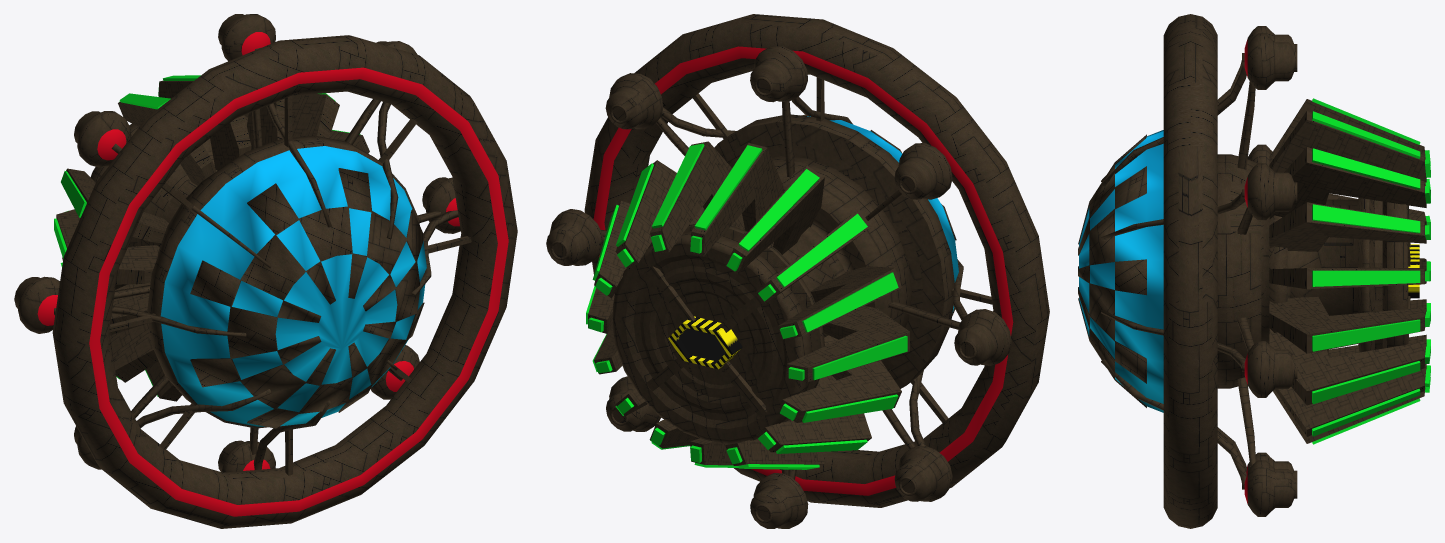
Rendered from Galileo.fbx.
3 views of the same model, side by side, from view 1: azimuth 30°, elevation 25°; view 2: azimuth 150°, elevation 25°; view 3: azimuth 270°, elevation 25° (orthographic).
Visible parts, largest first — view 1: Cylinder.001, Cube.001, Cube; view 2: Cylinder.001, Cube.001, Cube; view 3: Cylinder.001, Cube, Cube.001.
Part boxes in pixels (<box>): Cylinder.001: <box>14,14,460,472</box>; Cube.001: <box>52,35,517,528</box>; Cube: <box>54,75,369,401</box>; Cylinder.001: <box>546,46,1011,528</box>; Cube.001: <box>584,14,1049,507</box>; Cube: <box>586,141,909,469</box>; Cylinder.001: <box>1078,26,1419,516</box>; Cube: <box>1269,98,1430,444</box>; Cube.001: <box>1163,14,1217,528</box>.
Size of the model in its own units: 1717 by 1717 by 1167.
